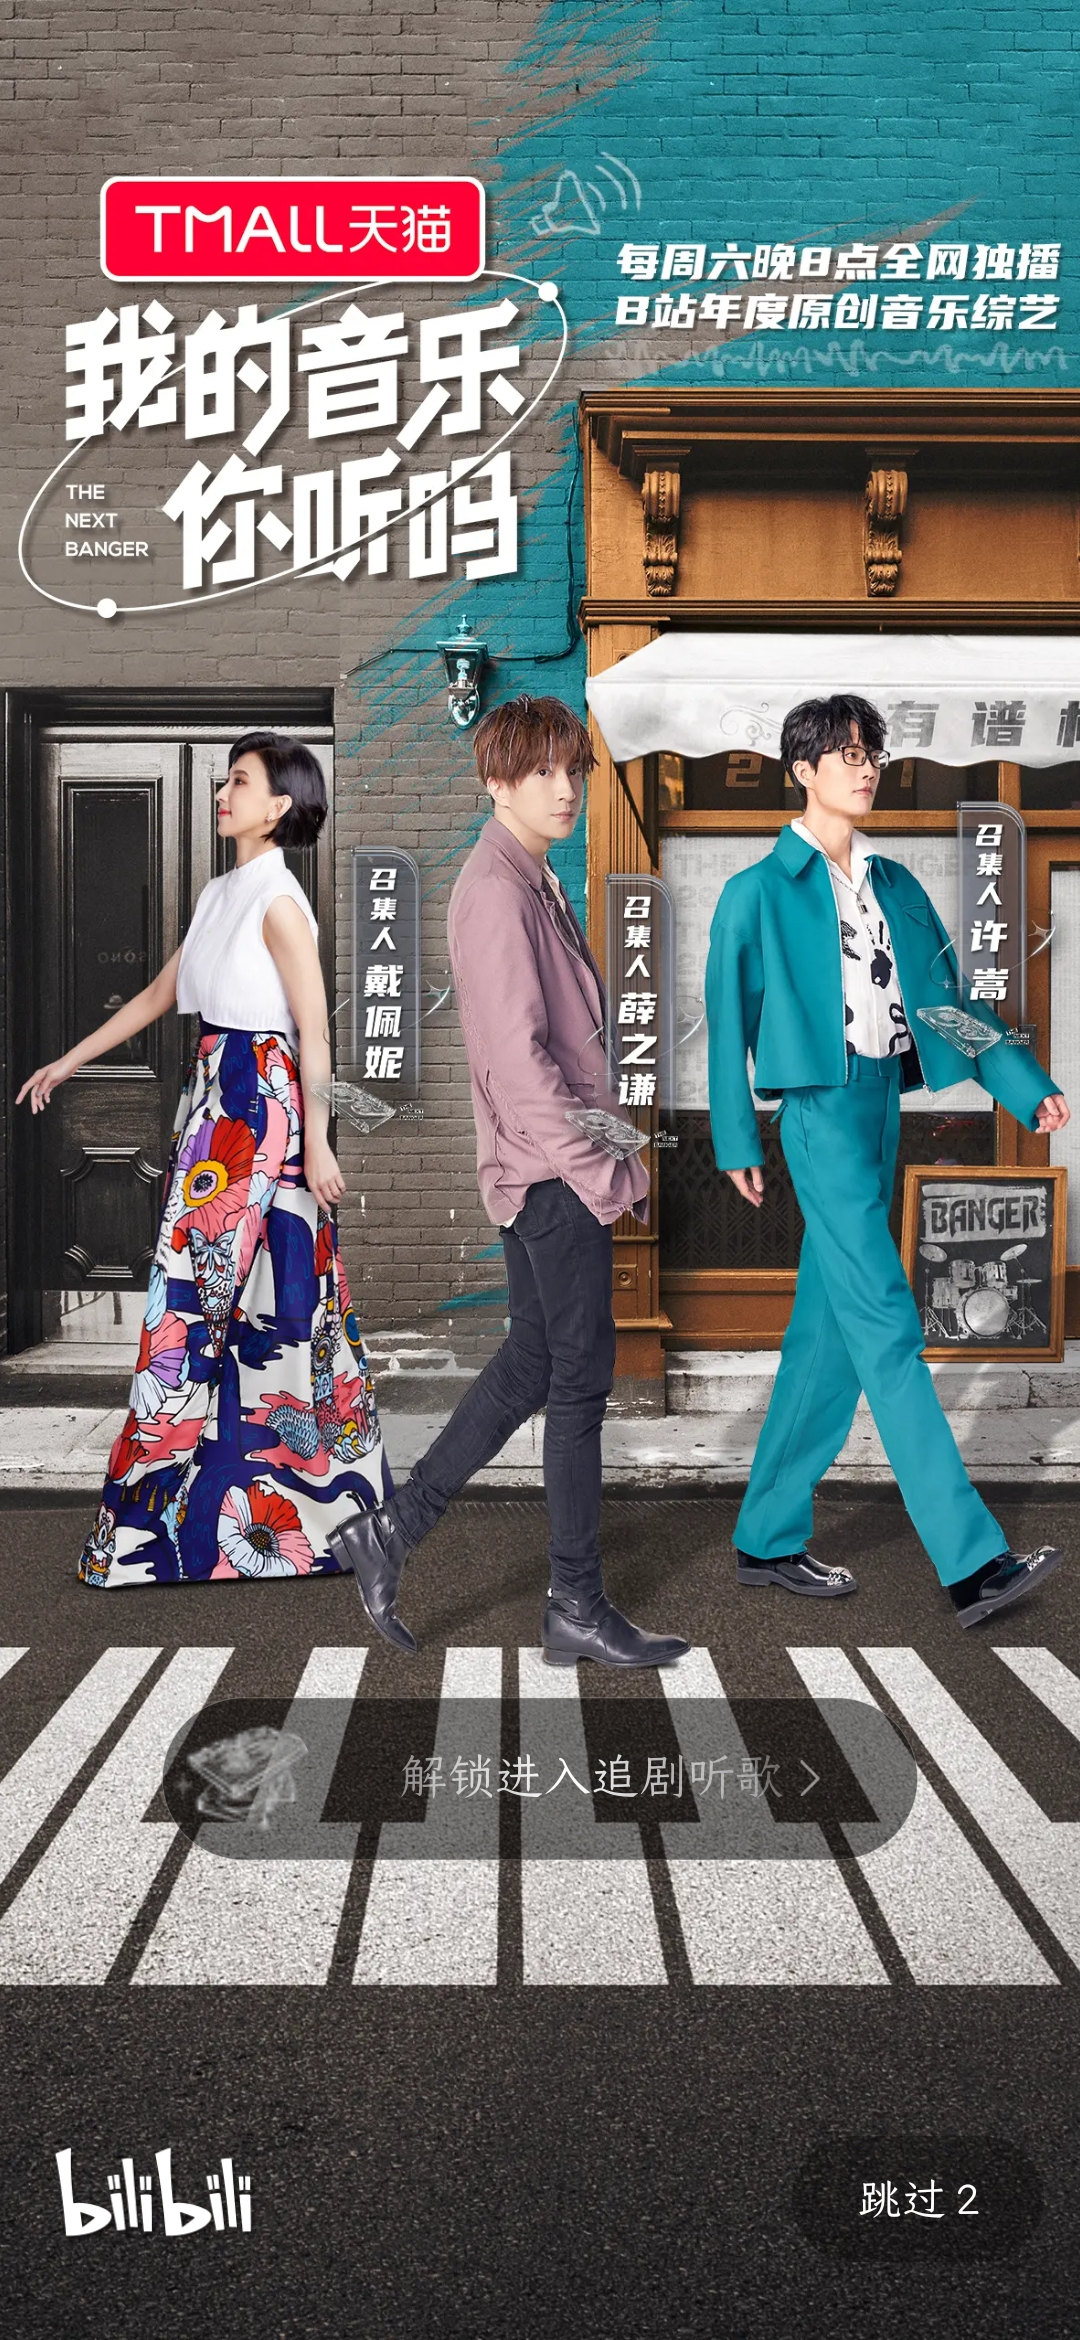skip: (820, 2145, 1004, 2250)
